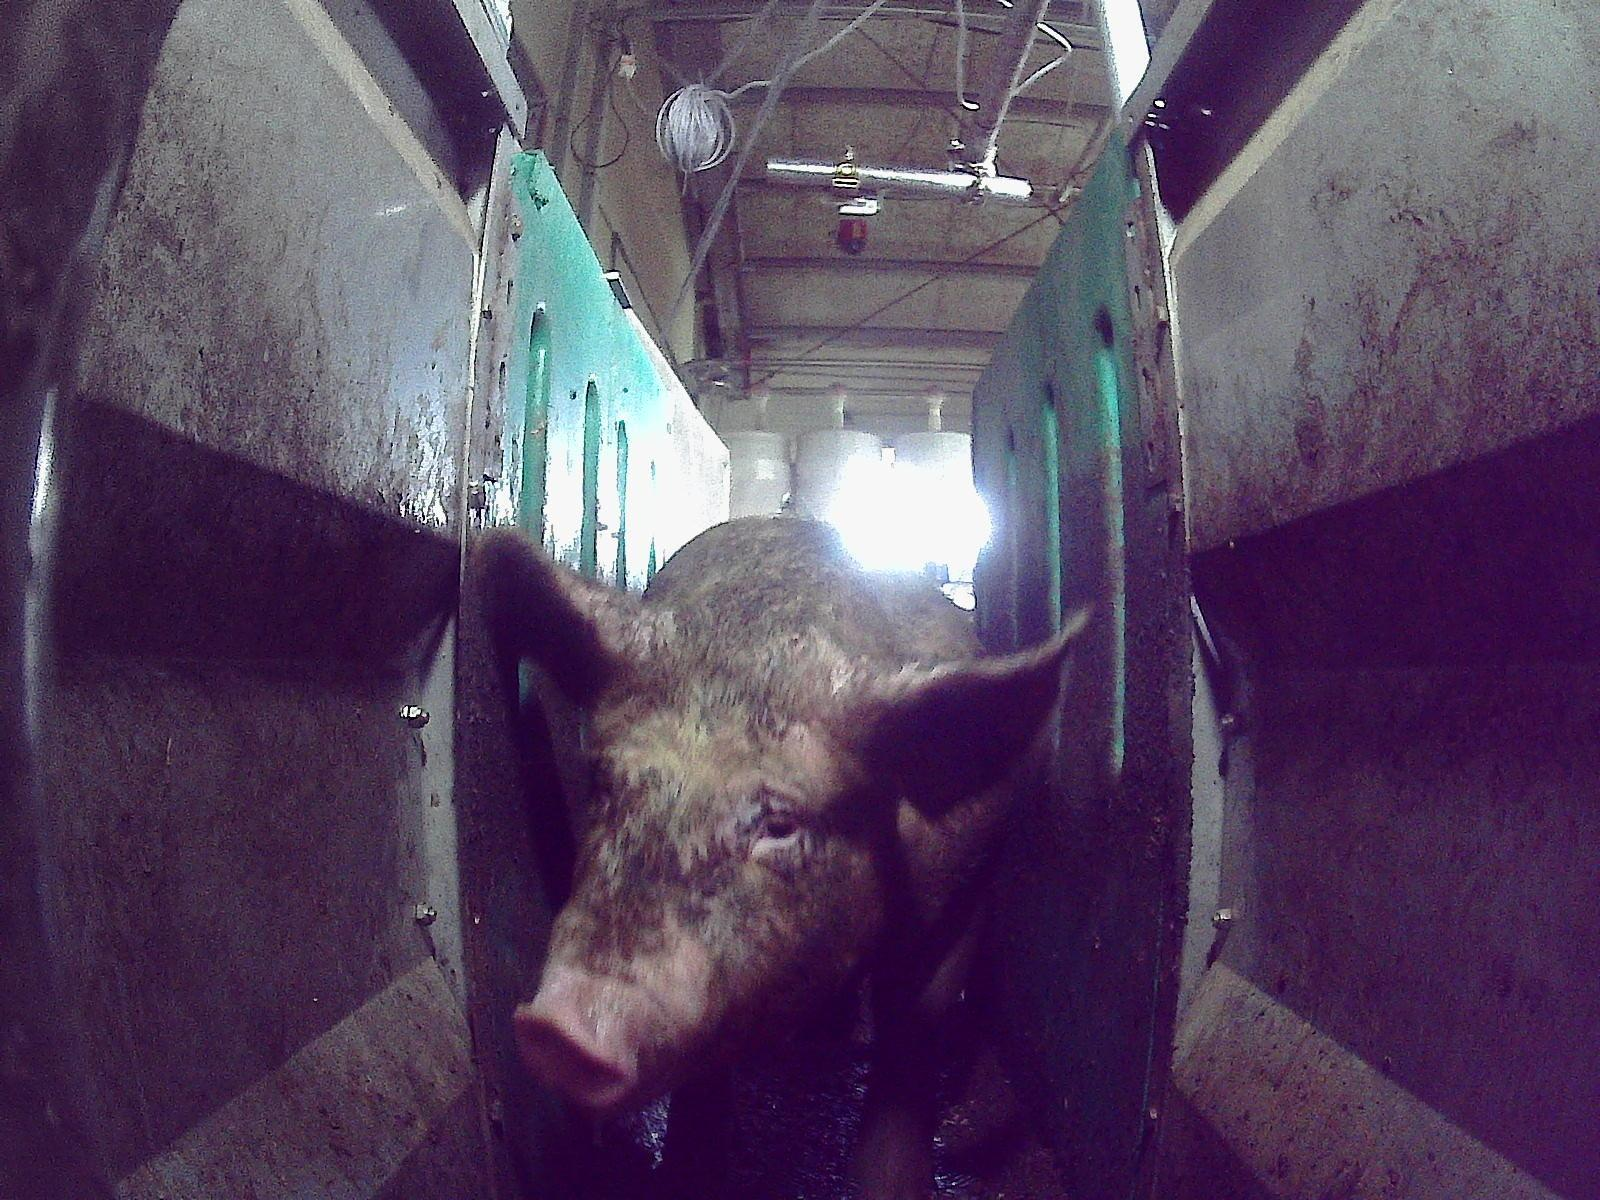Face: (511, 678, 880, 1108)
